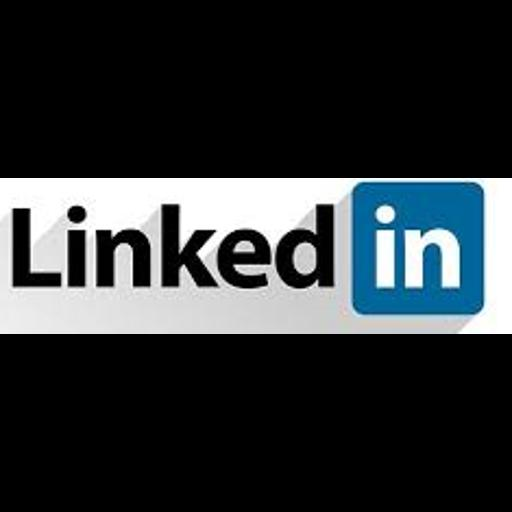LinkedIn Corporation: (0, 178, 512, 334)
